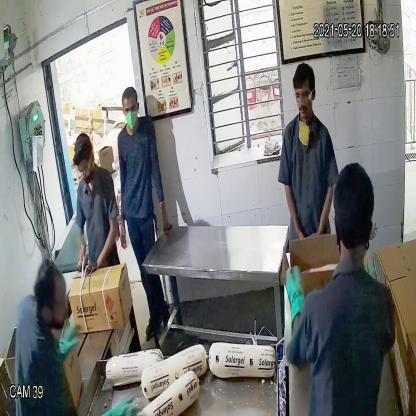goggles: (290, 89, 316, 104), (76, 159, 94, 177)
no_goggles: (121, 104, 138, 115)
